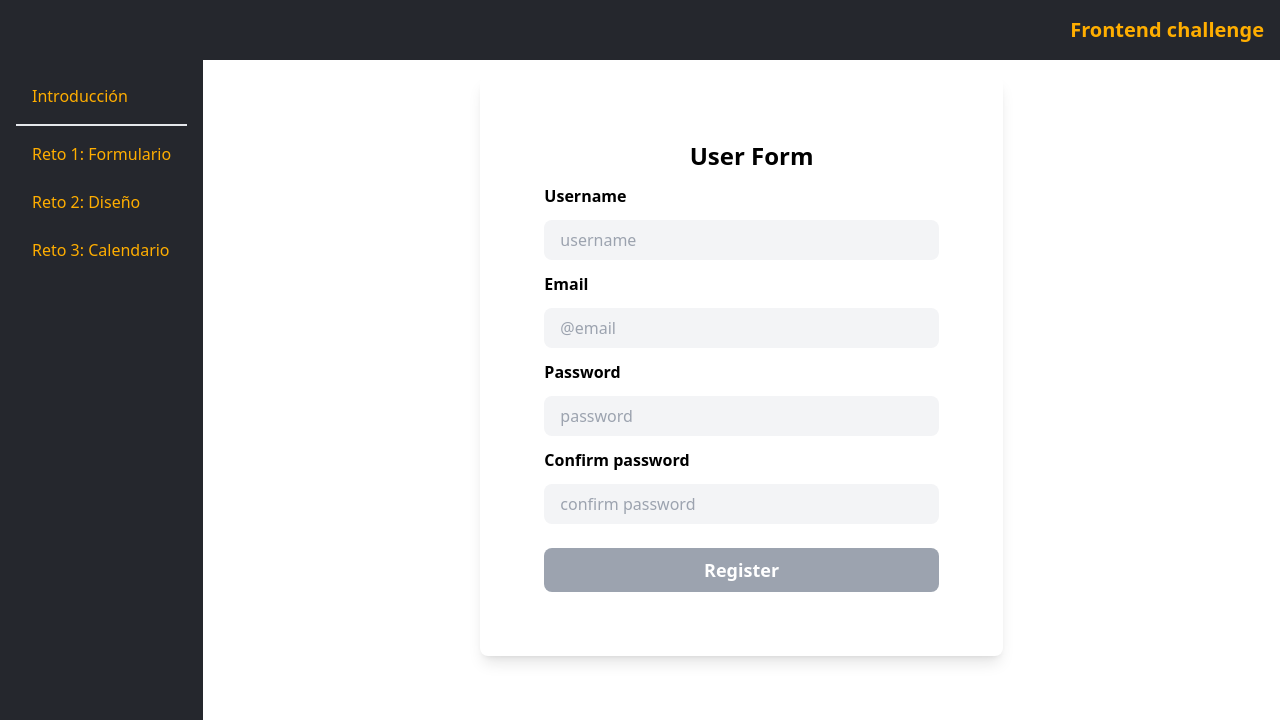
it: Register form › allows the user to fill in the form and submit it.
Type "testuser" into the field with id "username".
click(741, 240); type("testuser")  # box x1=544 y1=220 x2=938 y2=260
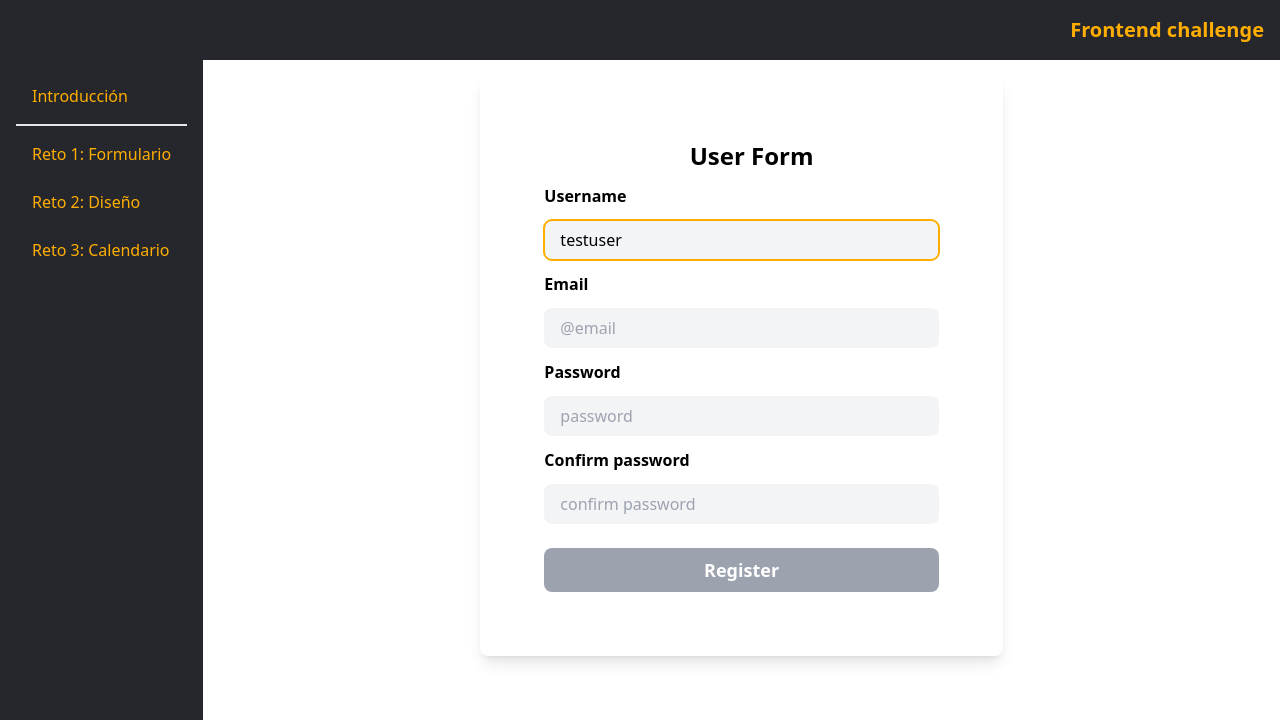
Type "test@example.com" into the field with id "email".
click(741, 328); type("test@example.com")  # box x1=544 y1=308 x2=938 y2=348
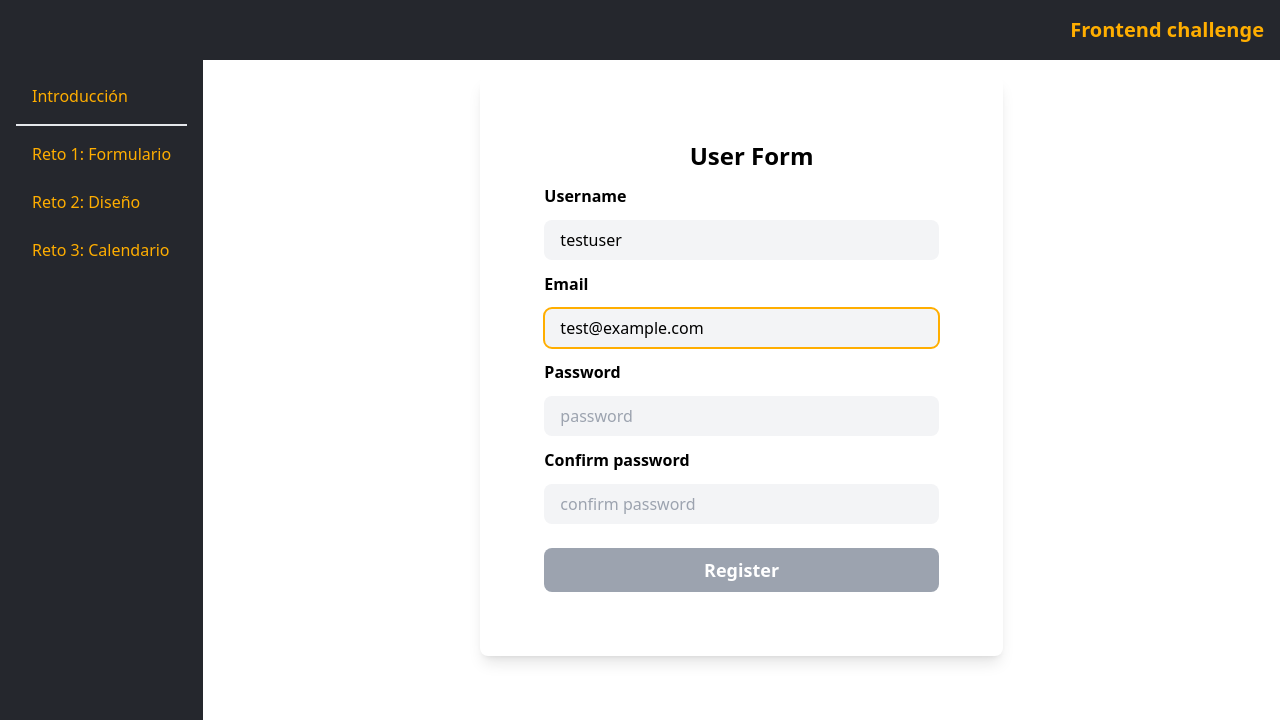
Type "P@ssw0rd" into the field labelled "Password".
click(741, 416); type("P@ssw0rd")  # box x1=544 y1=396 x2=938 y2=436
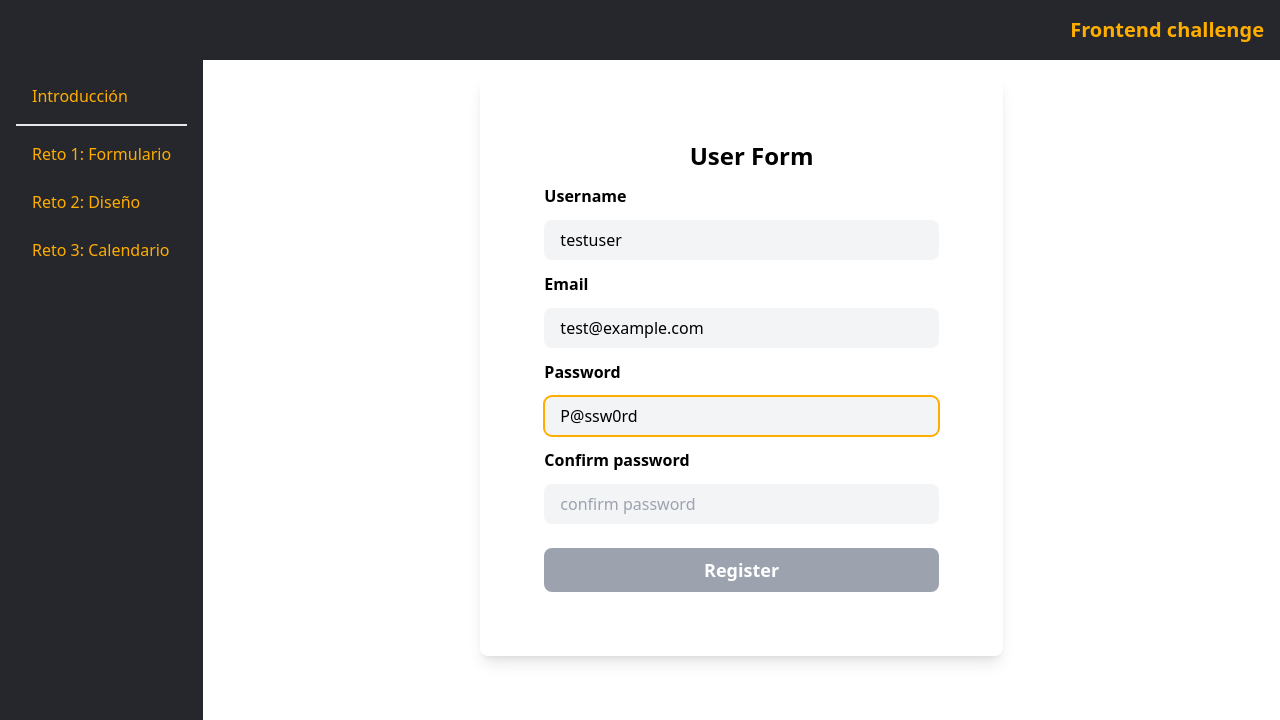
Type "P@ssw0rd" into the field with id "confirm".
click(741, 504); type("P@ssw0rd")  # box x1=544 y1=484 x2=938 y2=524
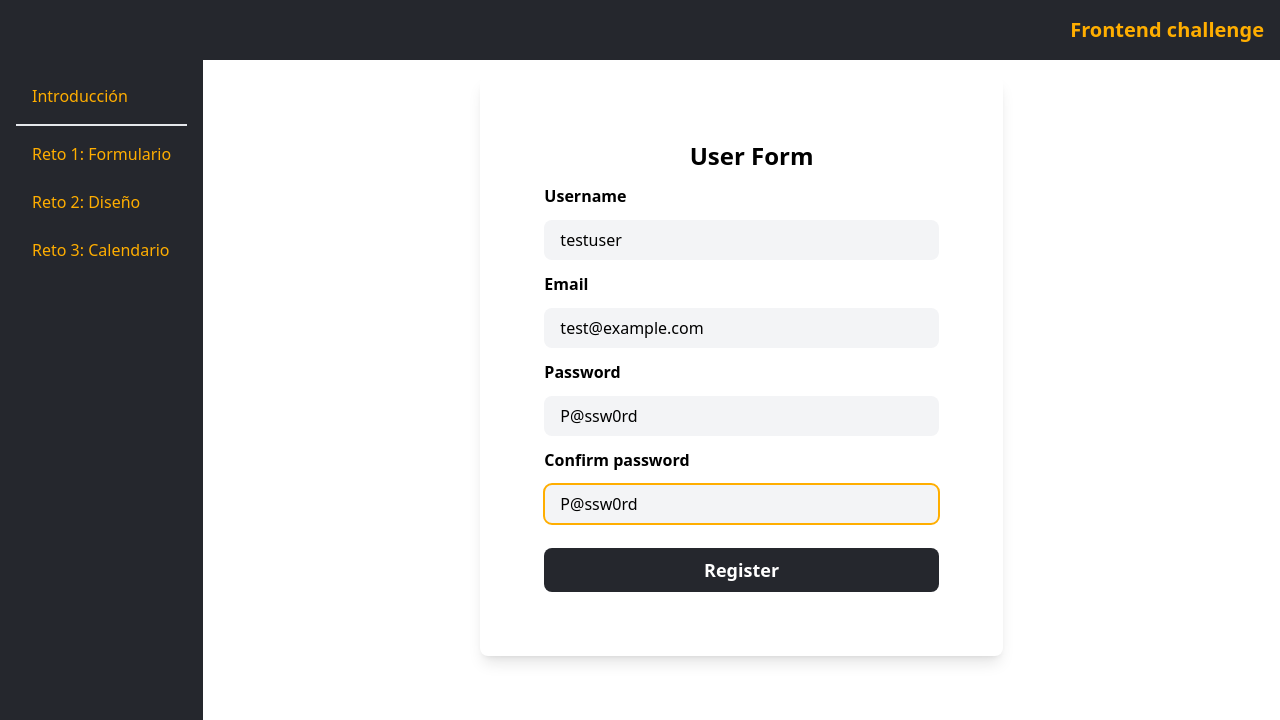
Click the button "Register".
click(741, 570)  # box x1=544 y1=548 x2=938 y2=592
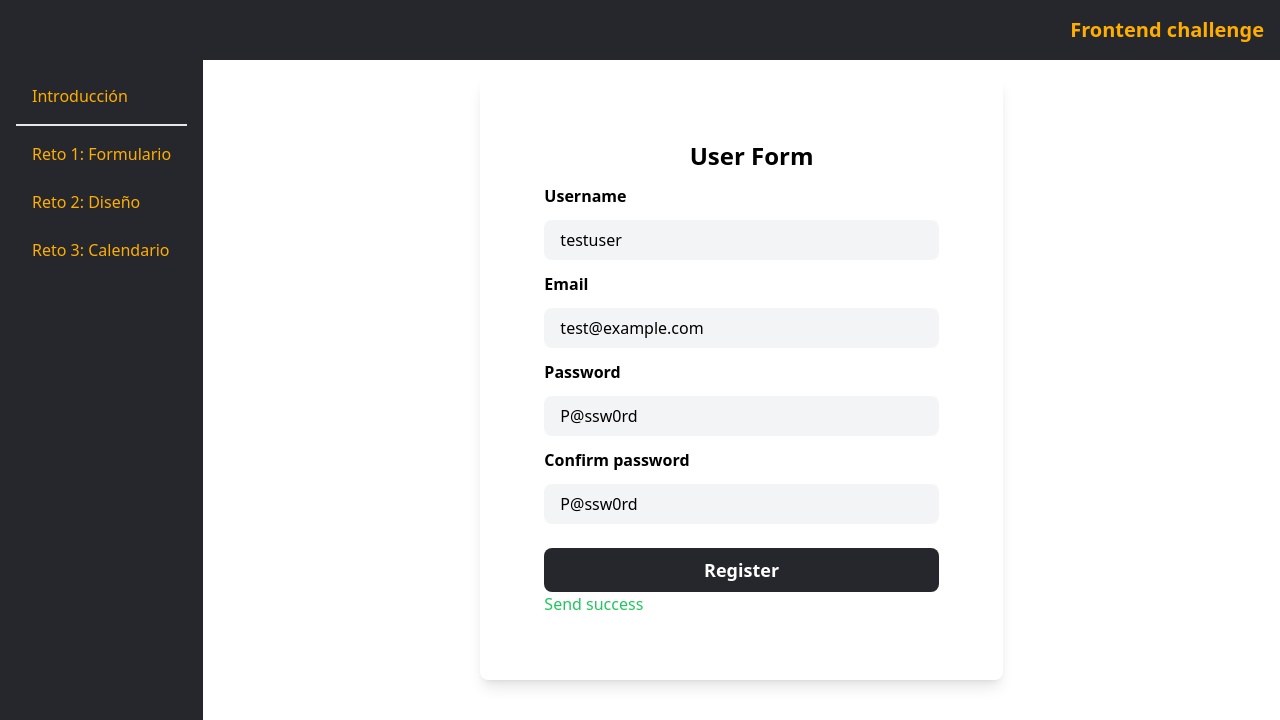
expect the text "Send success" is shown: met, box x1=544 y1=593 x2=643 y2=615
